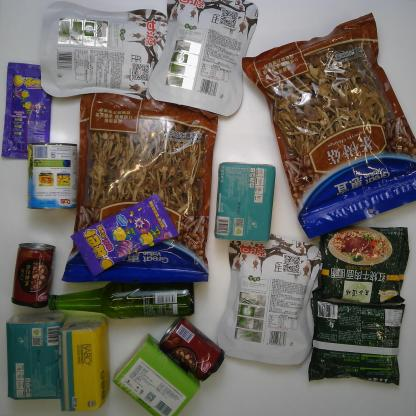Alcohol: (44, 281, 197, 321)
Candy: (72, 193, 180, 277), (3, 62, 56, 157)
Canned Food: (23, 136, 80, 212), (161, 320, 225, 377), (9, 242, 54, 312)
Dried Food: (240, 14, 416, 237), (59, 86, 224, 282)
Dried Fruit: (219, 229, 324, 369), (41, 0, 172, 101), (150, 0, 257, 116)
Instant Noodles: (304, 303, 404, 386), (314, 226, 410, 306)
Tissue: (112, 332, 199, 416), (4, 311, 66, 402), (212, 161, 275, 246), (58, 316, 112, 415)
